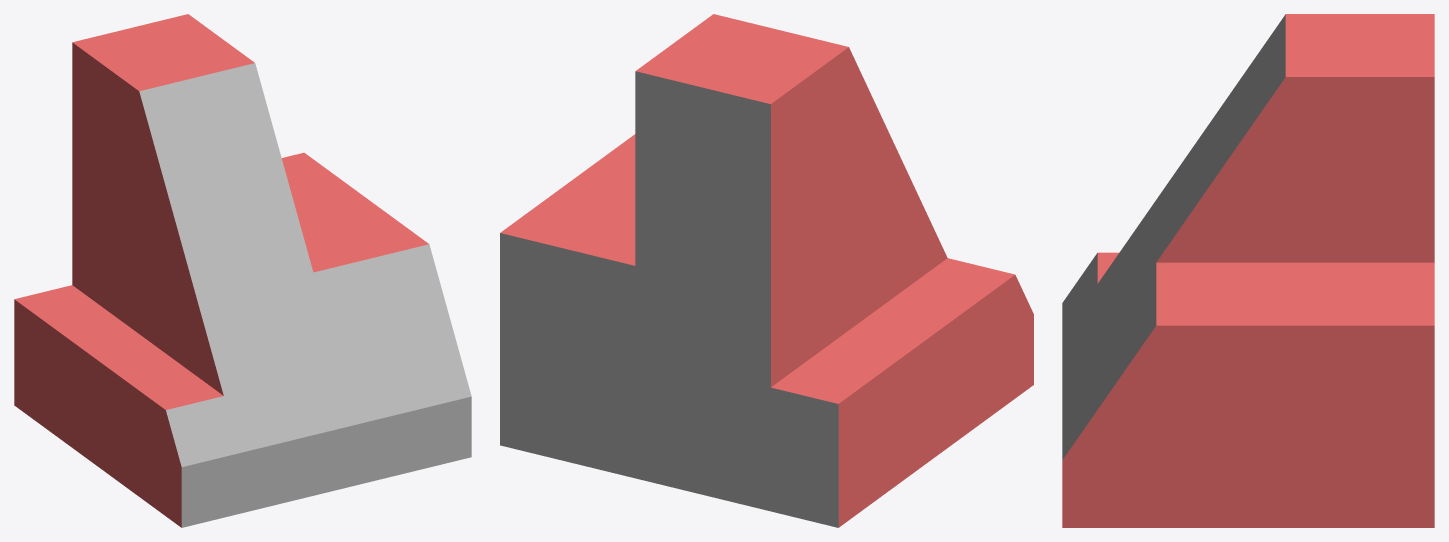
File: tenkaizu5.glb
The picture shows the model from 3 angles, left to right: view 1: azimuth 30°, elevation 25°; view 2: azimuth 150°, elevation 25°; view 3: azimuth 270°, elevation 25°; orthographic projection. The views are drawn at different scales.
Parts seen in each view (by area): view 1: tenkaizu5.SLDPRT; view 2: tenkaizu5.SLDPRT; view 3: tenkaizu5.SLDPRT.
Boxes of the visible parts, bbox=[...] form: tenkaizu5.SLDPRT: bbox=[14, 14, 471, 527]; tenkaizu5.SLDPRT: bbox=[500, 14, 1033, 527]; tenkaizu5.SLDPRT: bbox=[1062, 14, 1434, 527].
Bounding box in the file's own units: 0.02 × 0.023 × 0.02.
